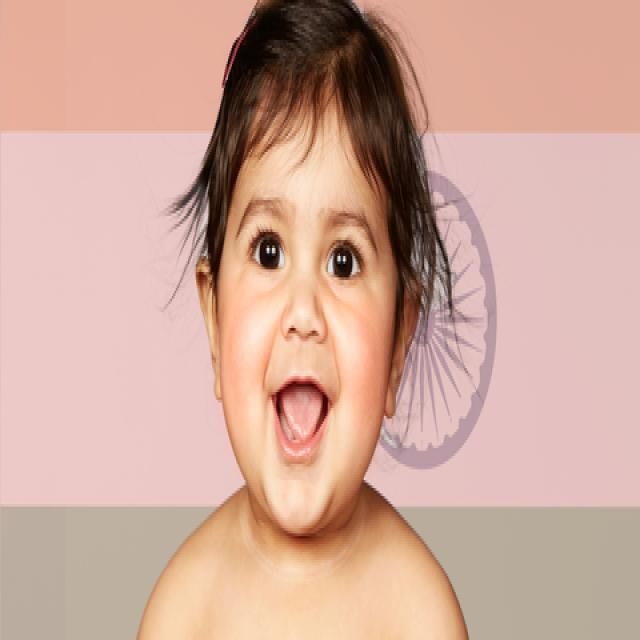non-dog: (134, 1, 471, 640)
